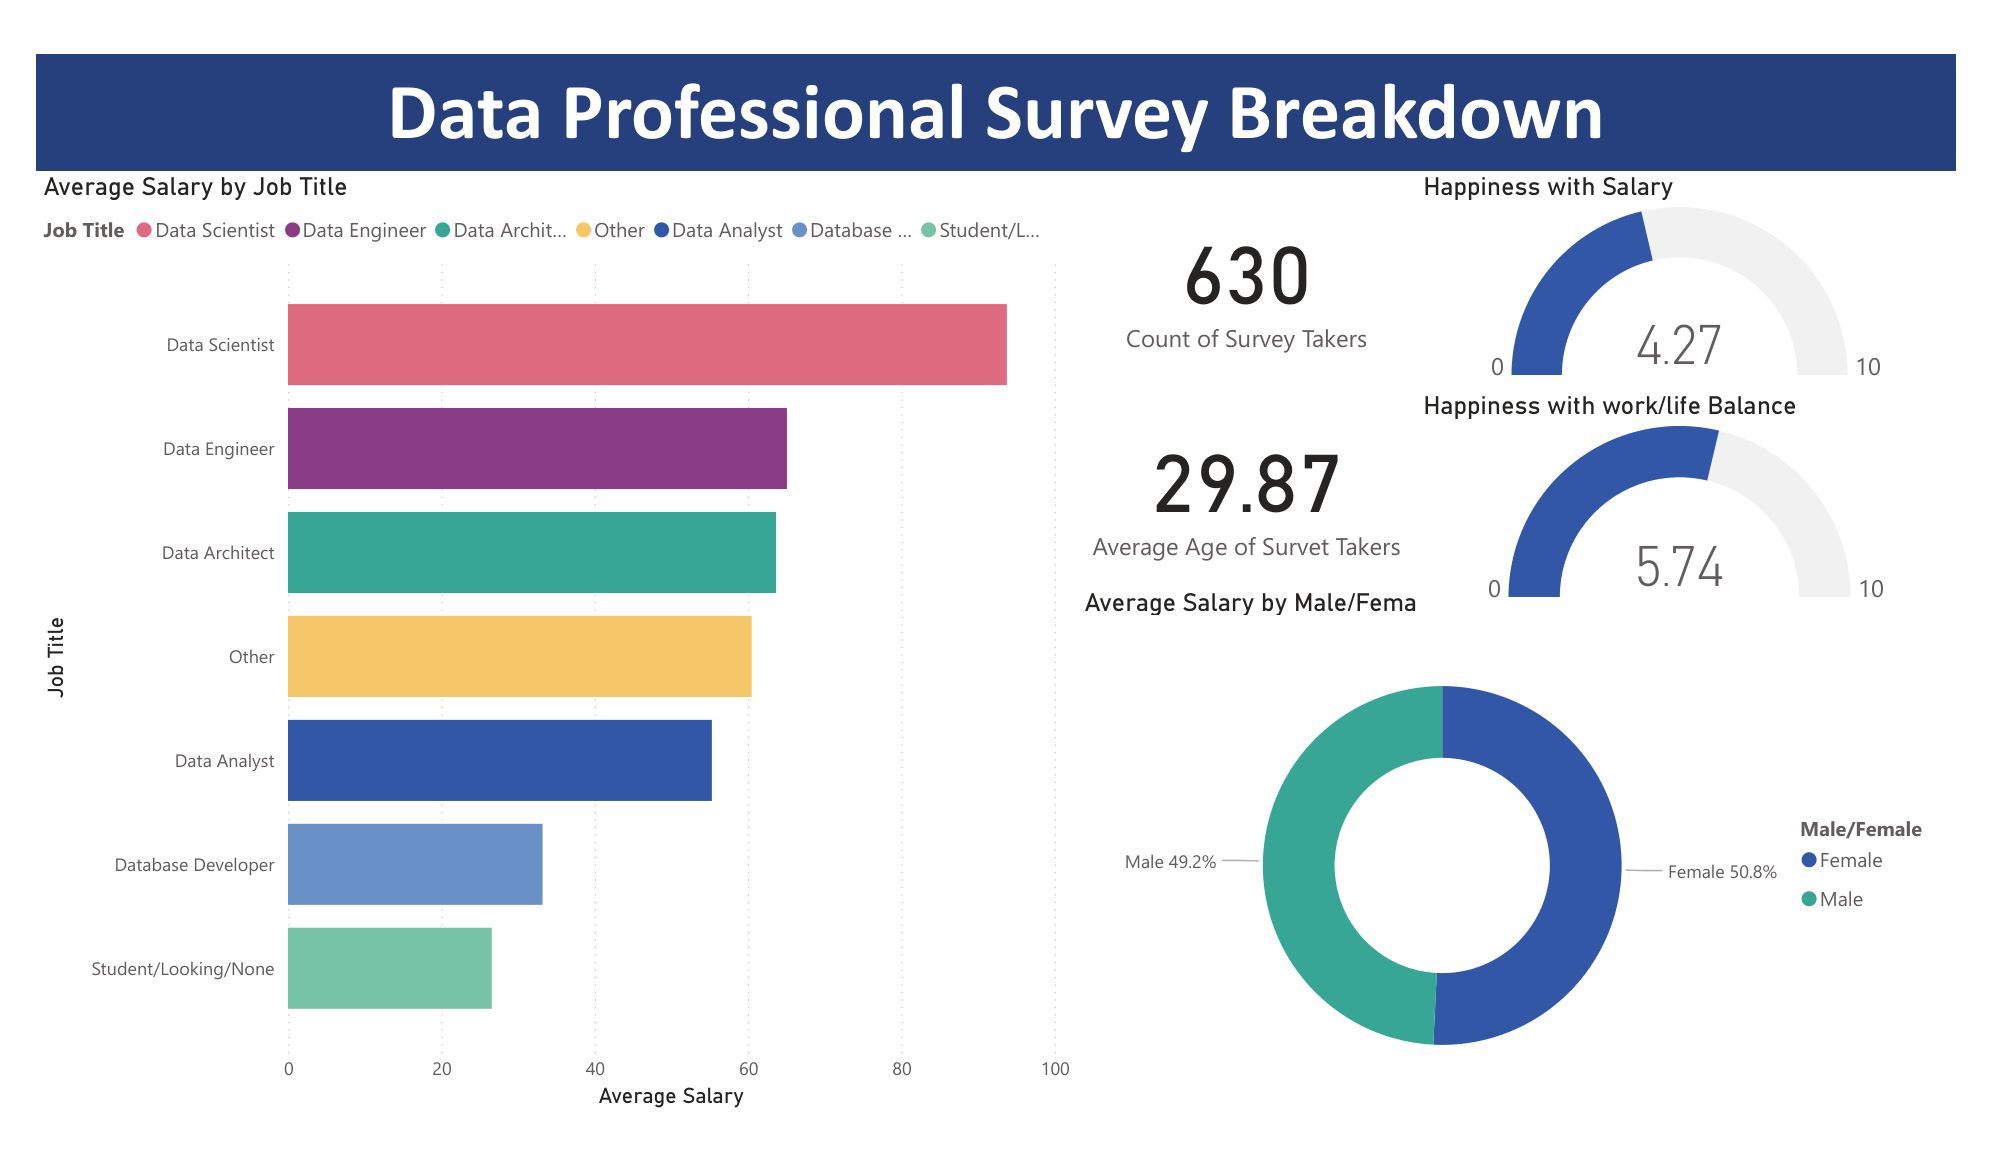

The page's visual inventory and layout, read from the dashboard file:
{"tool":"powerbi","page":{"name":"Page 1","canvas":[1280,720],"ordinal":0},"visuals":[{"type":"textbox","box":[0,11.8,1280,79],"z":0},{"type":"barChart","title":"Average Salary by Job Title","fields":{"Y":["Avg(Data Professional Survey.Average Salary)"],"Category":["Data Professional Survey.Q1 - Which Title Best Fits your Current Role?.1"],"Series":["Data Professional Survey.Q1 - Which Title Best Fits your Current Role?.1"]},"box":[0,90,694.3,630],"z":1000},{"type":"donutChart","fields":{"Category":["Data Professional Survey.Q9 - Male/Female?"],"Y":["Avg(Data Professional Survey.Average Salary)"]},"box":[694.3,367.1,585.7,352.9],"z":2000},{"type":"gauge","title":"Happiness with work/life Balance","fields":{"Y":["Avg(Data Professional Survey.Q6 - How Happy are you in your Current Position with the following? (Work/Life Balance))"],"MinValue":["Min(Data Professional Survey.Q6 - How Happy are you in your Current Position with the following? (Work/Life Balance))"],"MaxValue":["Max(Data Professional Survey.Q6 - How Happy are you in your Current Position with the following? (Work/Life Balance))"]},"box":[920,235.7,360,148.6],"z":3000},{"type":"gauge","title":"Happiness with Salary","fields":{"Y":["Avg(Data Professional Survey.Q6 - How Happy are you in your Current Position with the following? (Salary))"],"MinValue":["Min(Data Professional Survey.Q6 - How Happy are you in your Current Position with the following? (Salary))"],"MaxValue":["Max(Data Professional Survey.Q6 - How Happy are you in your Current Position with the following? (Salary))"]},"box":[920,90,360,145.7],"z":4000},{"type":"card","fields":{"Values":["Avg(Data Professional Survey.Q10 - Current Age)"]},"box":[694.3,235.7,225.7,131.4],"z":5000},{"type":"card","fields":{"Values":["CountNonNull(Data Professional Survey.Unique ID)"]},"box":[694.3,90,225.7,145.7],"z":6000}]}

Visuals, with their boxes in screenshot pixels (x1, y1, x2, y2), scaled from the page's 1280x720 canvas onto the 1992x1152 screenshot:
textbox: bbox(0, 19, 1991, 145)
"Average Salary by Job Title" barChart: bbox(0, 144, 1081, 1151)
donutChart - Data Professional Survey.Q9 - Male/Female? x Avg(Data Professional Survey.Average Salary): bbox(1081, 587, 1991, 1151)
"Happiness with work/life Balance" gauge: bbox(1432, 377, 1991, 615)
"Happiness with Salary" gauge: bbox(1432, 144, 1991, 377)
card - Avg(Data Professional Survey.Q10 - Current Age): bbox(1081, 377, 1432, 587)
card - CountNonNull(Data Professional Survey.Unique ID): bbox(1081, 144, 1432, 377)
